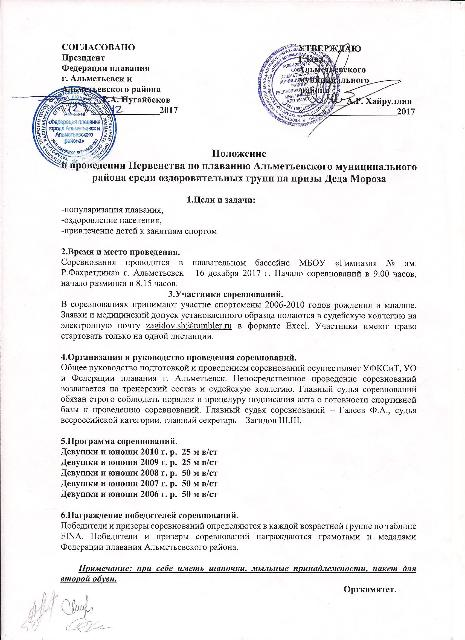stamp: (32, 88, 118, 168), (257, 44, 339, 126)
